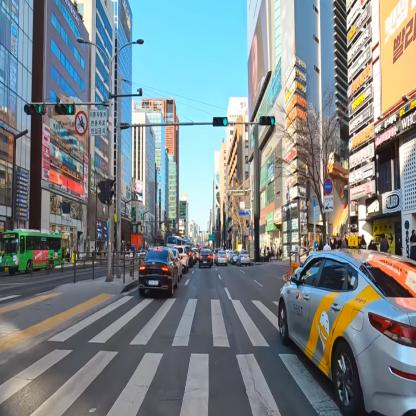Green: (55, 101, 77, 116), (25, 100, 46, 114), (258, 114, 276, 125), (213, 115, 228, 127)
